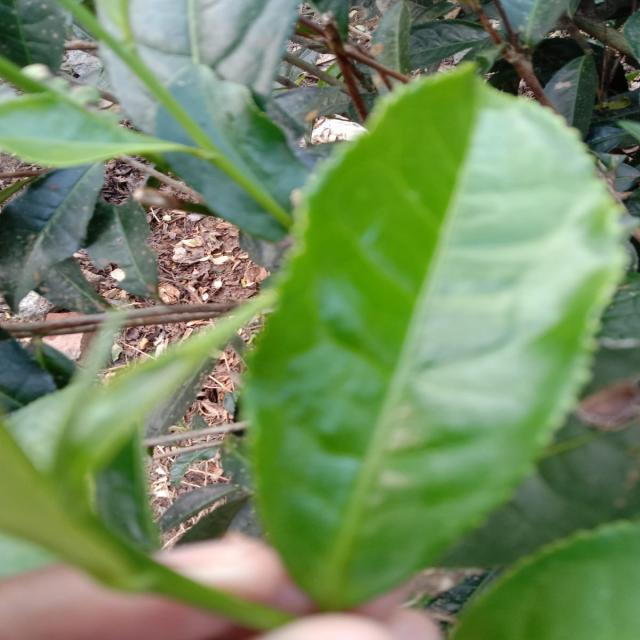Category C(4-7 days): (212, 39, 636, 640)
